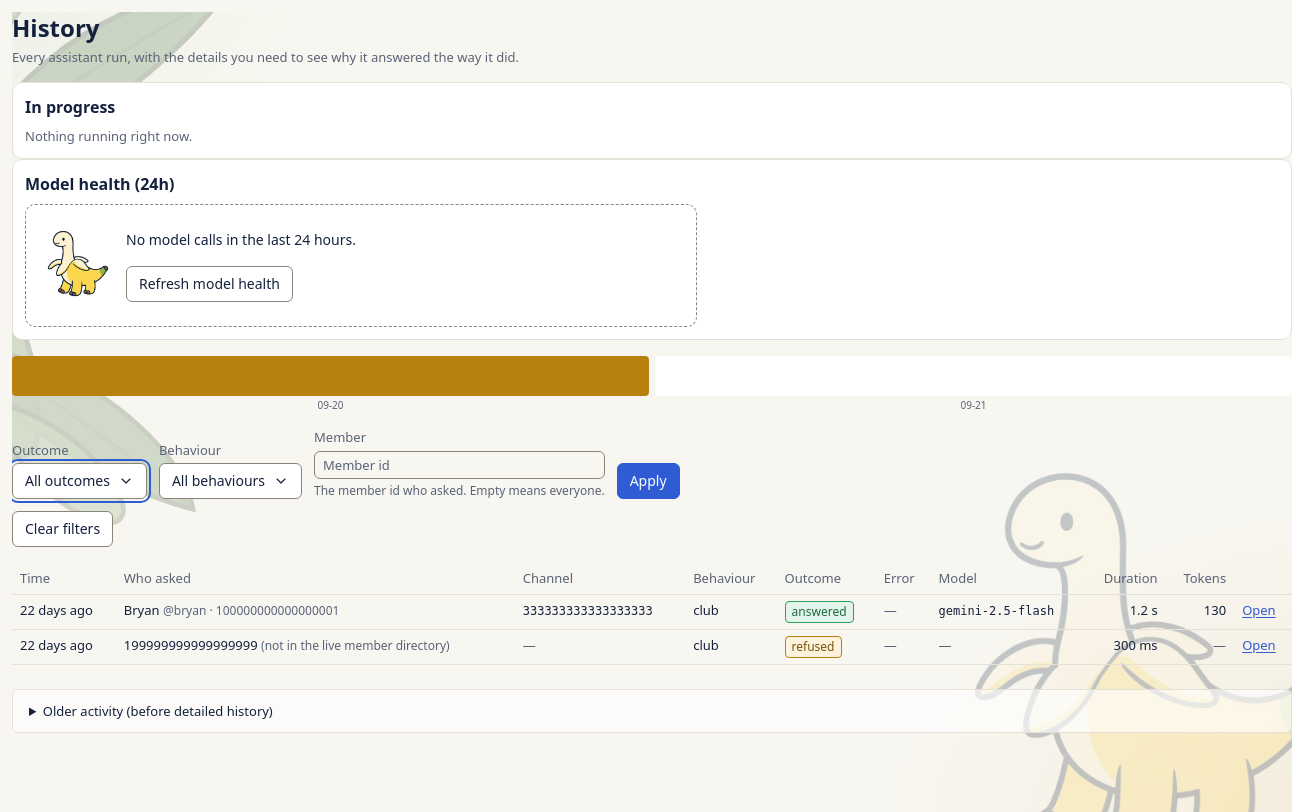
Test: AssistantHistoryPage › applies the outcome filter
This screenshot has width=1292, height=812.
Expected: the text "gemini-2.5-flash" is shown, [938,604,1054,618]
Press Enter
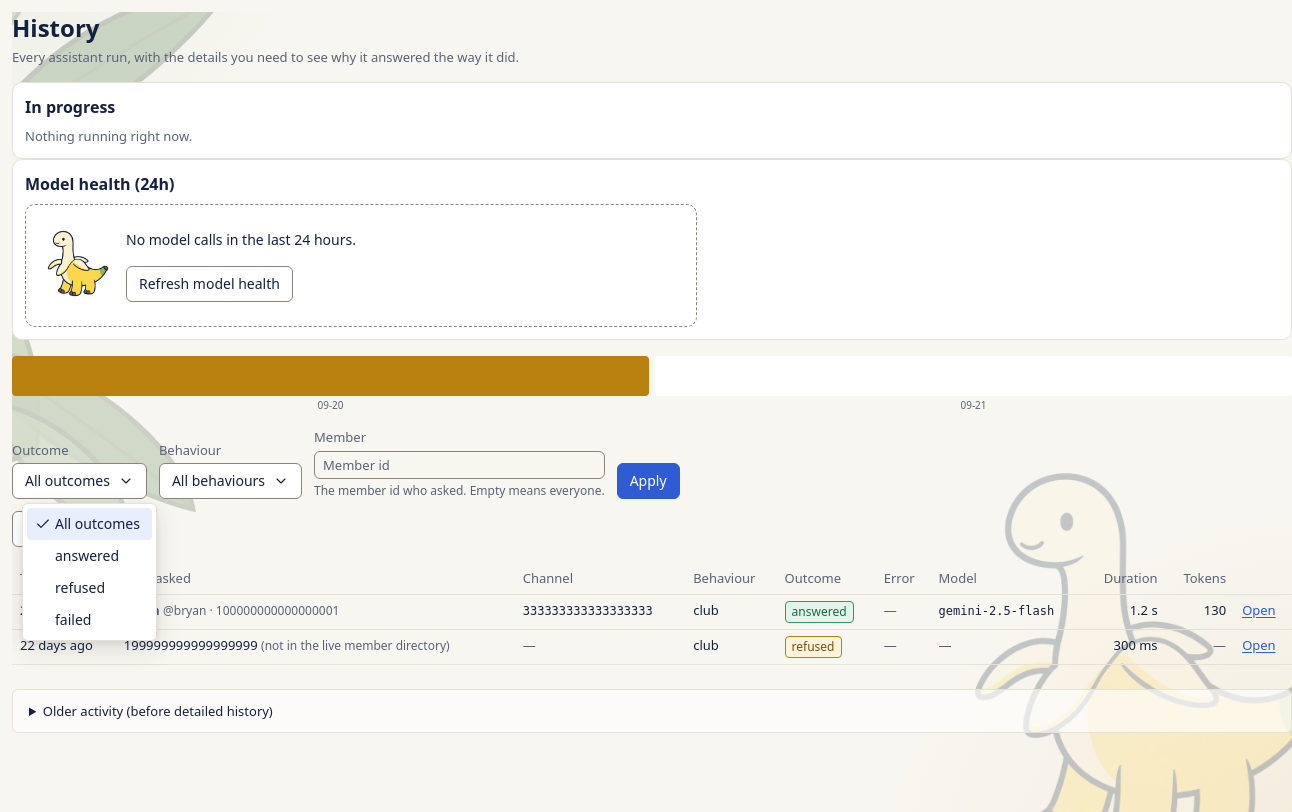
Click the option "failed".
click(73, 620)  # box [55,610,91,629]
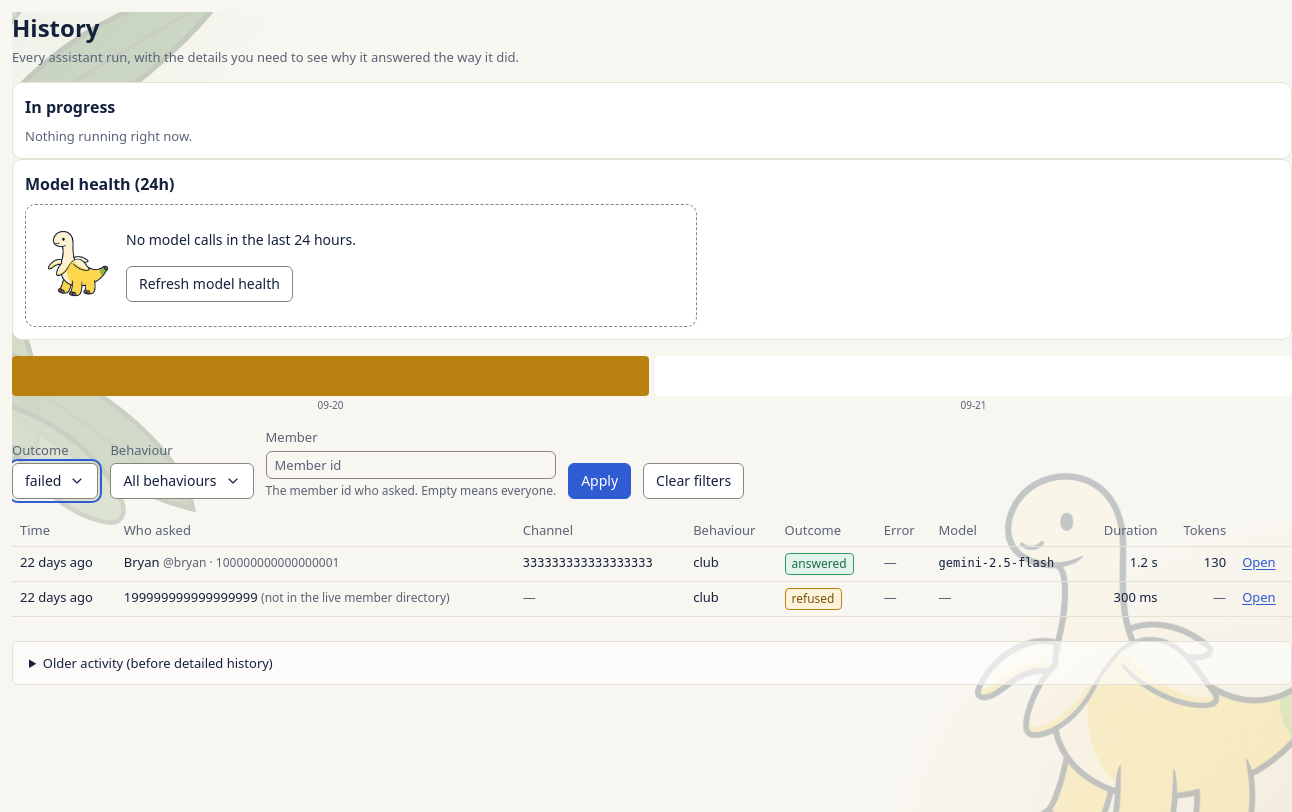
Click the button "Apply".
click(600, 481)  # box [568,463,631,499]
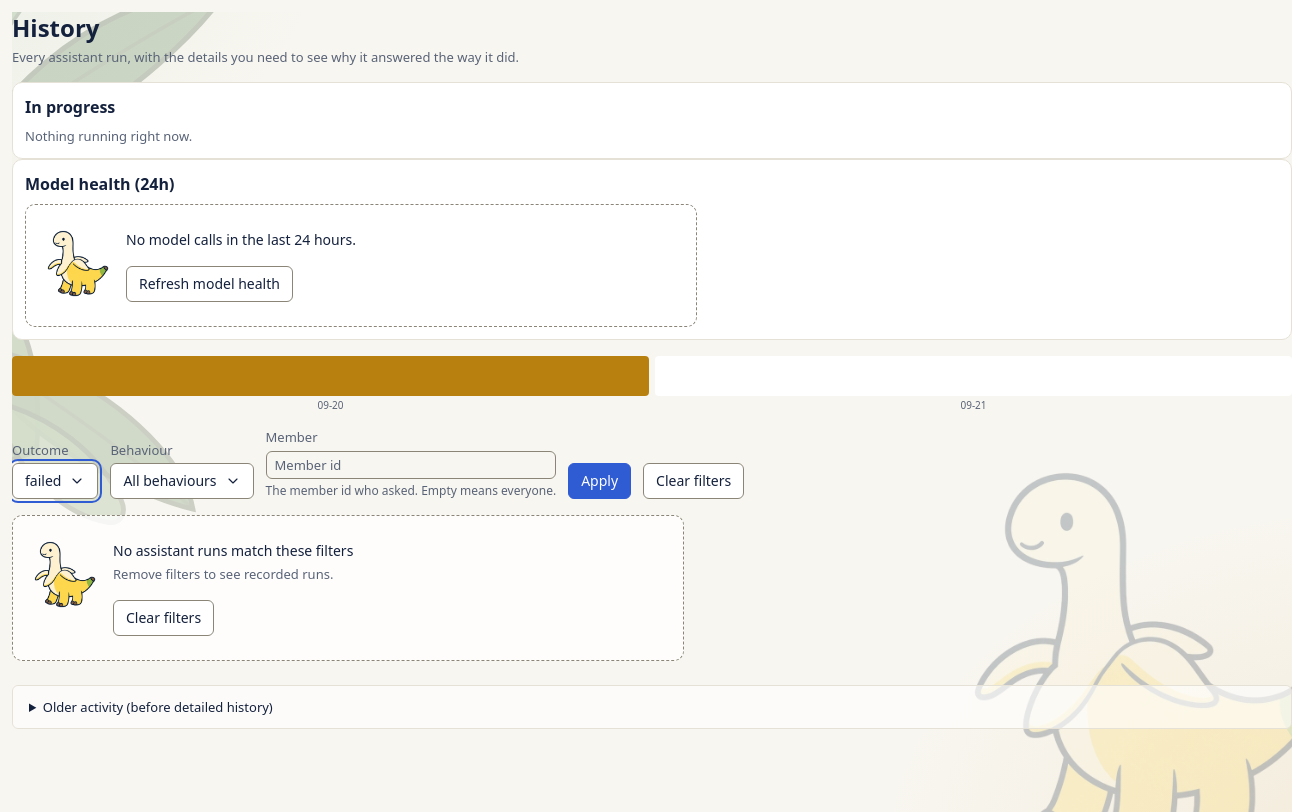
Expected: the heading "No assistant runs match these filters" is shown, [113,541,353,560]
